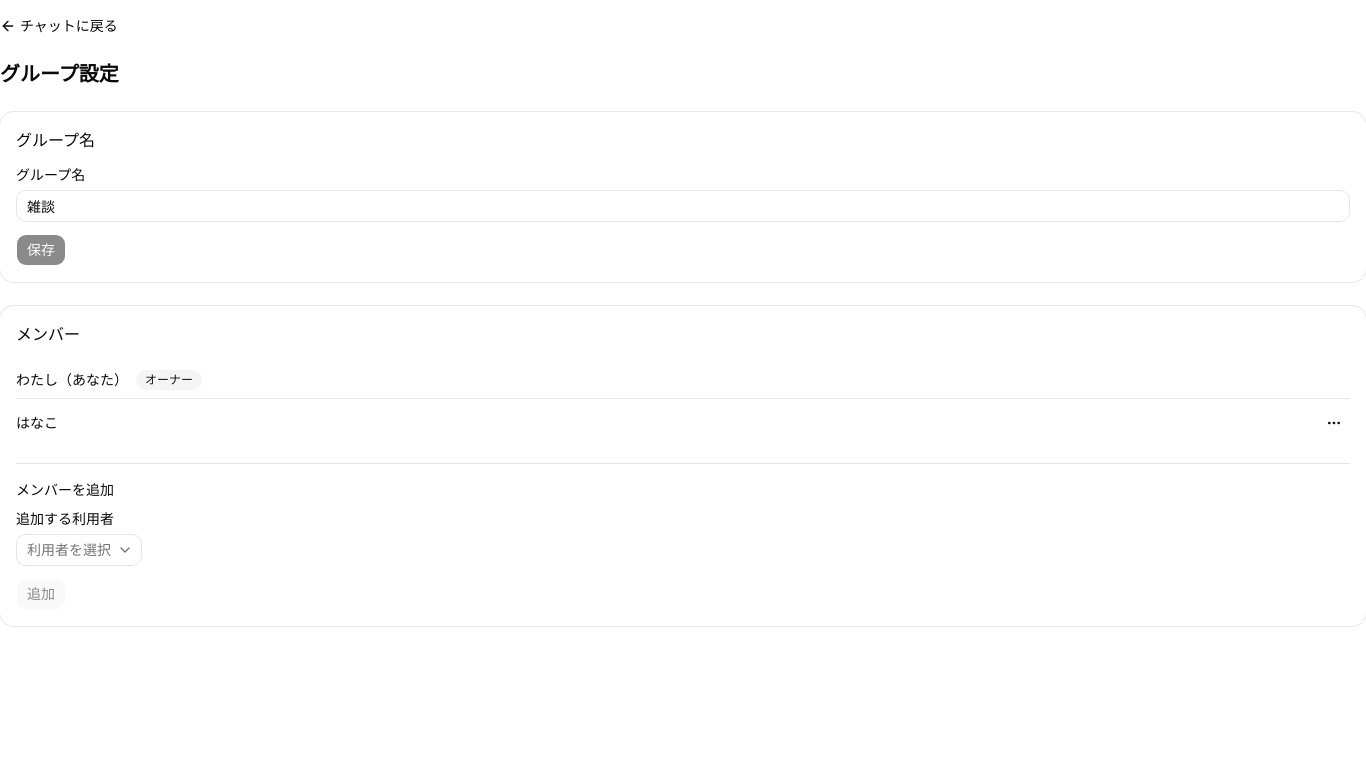
Test case: GroupSettingsView › メンバーの追加 › 委譲に成功するとフォームが消える
Click the button named "はなこさんの操作". click: (1334, 423)
box: [1318,407,1350,439]
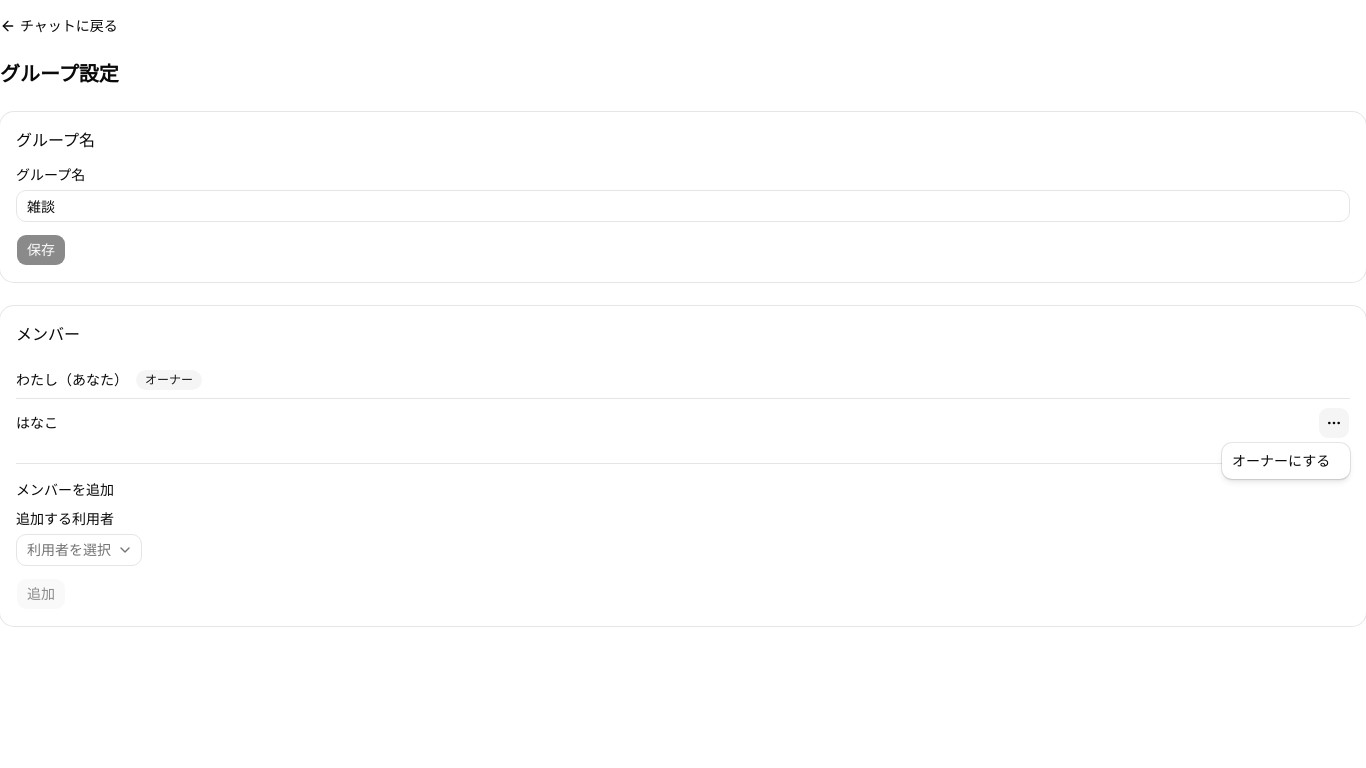
Click the menu item "オーナーにする". click: (1281, 460)
box: [1232,451,1330,470]
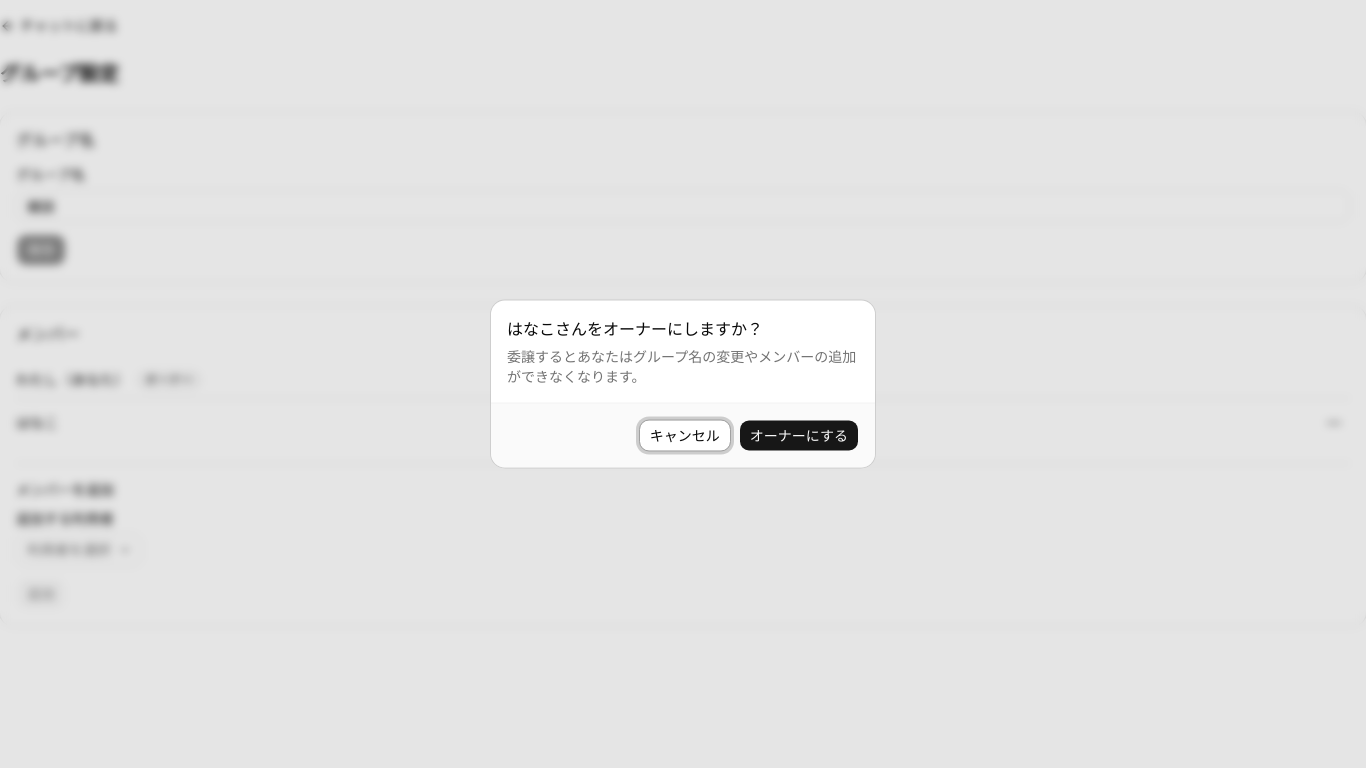
Click the button "オーナーにする". click: (799, 436)
box: [739,420,859,452]
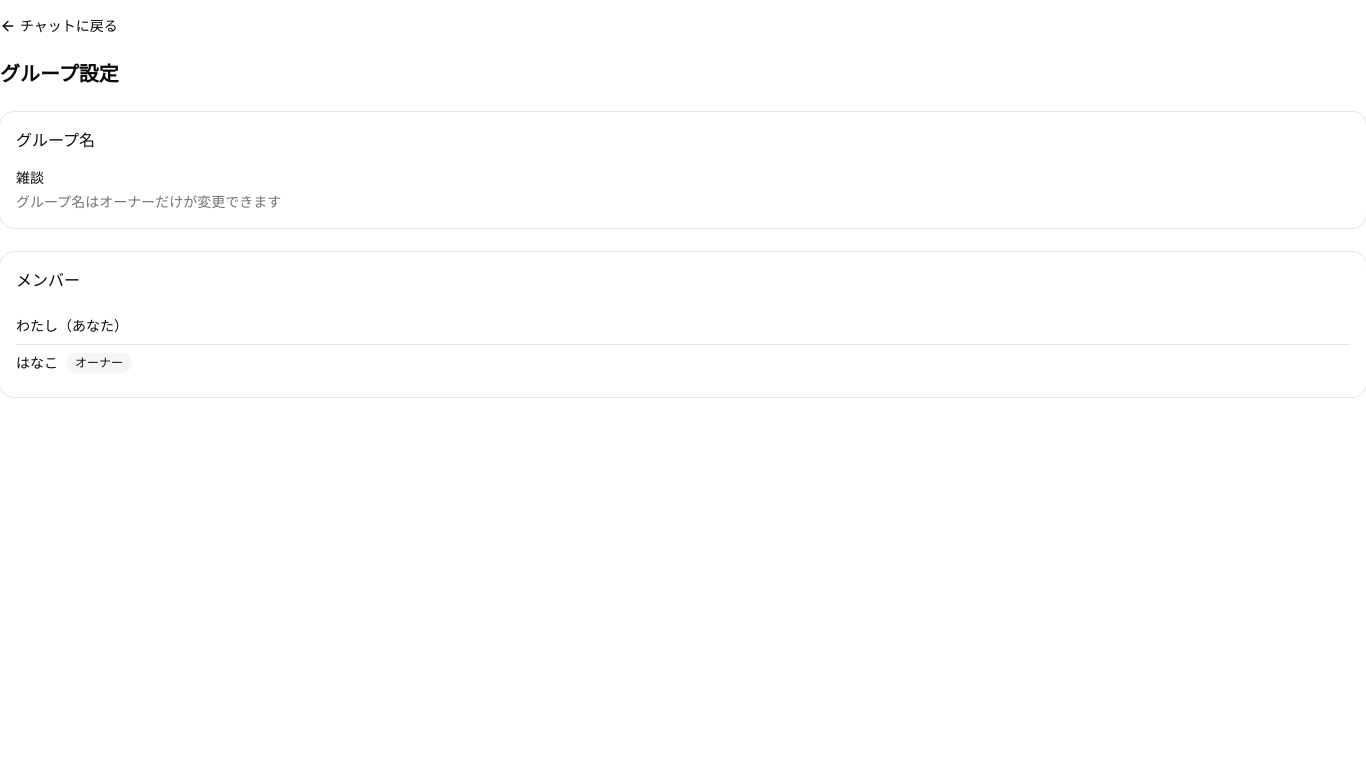
Now the heading "メンバーを追加" is gone
